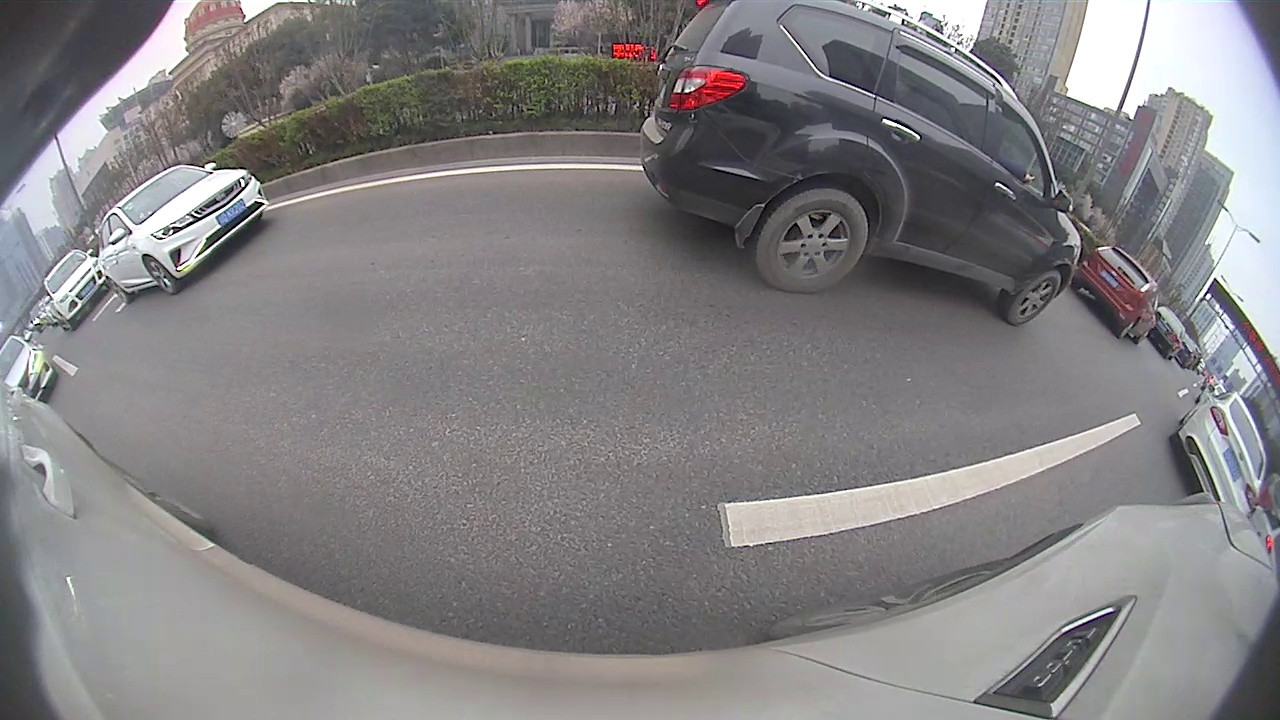car: (638, 3, 1083, 327), (95, 163, 271, 306), (1169, 388, 1269, 520), (1069, 243, 1159, 344), (42, 249, 113, 332), (0, 332, 56, 403), (1147, 303, 1186, 362)
front: (1004, 268, 1063, 326), (144, 255, 181, 295)
rear: (755, 187, 869, 295), (110, 281, 134, 306), (1116, 316, 1139, 340)
